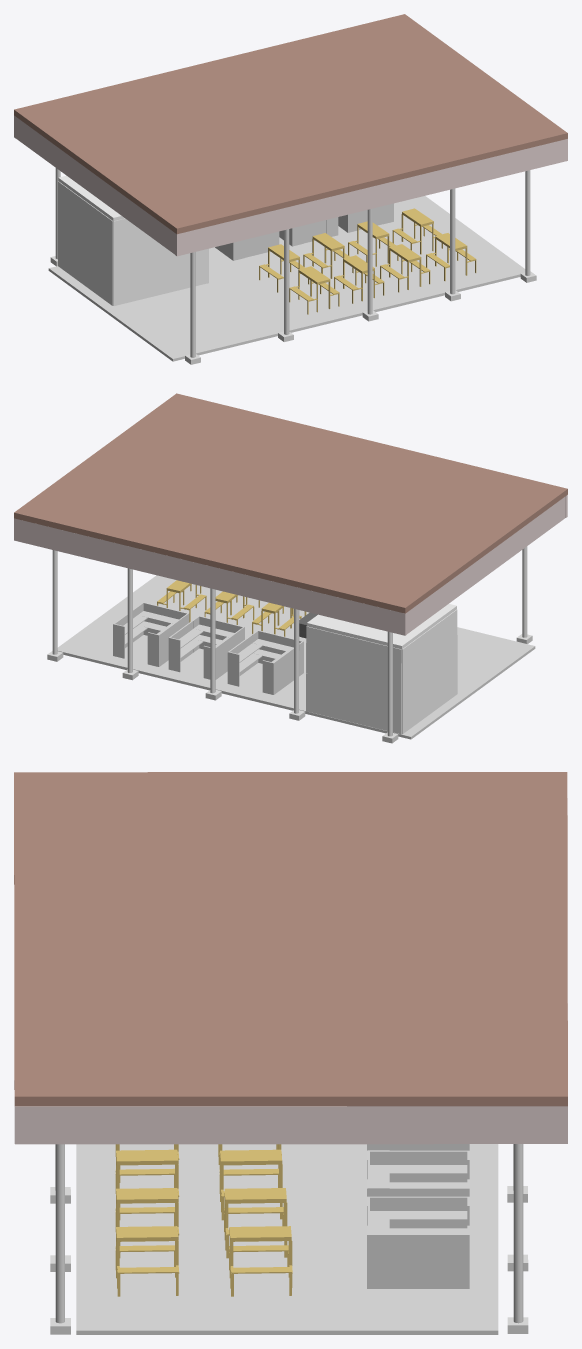
Rendered from Elementary Canteen S.fbx.
The picture shows the model from 3 angles, top to bottom: view 1: azimuth 30°, elevation 25°; view 2: azimuth 150°, elevation 25°; view 3: azimuth 270°, elevation 25°; orthographic projection. The views are drawn at different scales.
Parts seen in each view (by area): view 1: Cube.001, Cube, Cube.002, Cube.013, Cube.003; view 2: Cube.001, Cube.002, Cube, Cube.003, Cube.013; view 3: Cube.001, Cube, Cube.003, Cube.013.
Part boxes in pixels (x1=…): Cube.001: x1=14, y1=14, x2=567, y2=364; Cube: x1=48, y1=196, x2=525, y2=361; Cube.002: x1=58, y1=175, x2=208, y2=305; Cube.013: x1=259, y1=208, x2=476, y2=314; Cube.003: x1=215, y1=203, x2=393, y2=260; Cube.001: x1=14, y1=393, x2=567, y2=743; Cube.002: x1=306, y1=604, x2=457, y2=734; Cube: x1=57, y1=575, x2=535, y2=739; Cube.003: x1=113, y1=602, x2=303, y2=694; Cube.013: x1=157, y1=580, x2=306, y2=636; Cube.001: x1=14, y1=772, x2=567, y2=1334; Cube: x1=76, y1=1144, x2=498, y2=1334; Cube.003: x1=367, y1=1144, x2=469, y2=1288; Cube.013: x1=115, y1=1144, x2=292, y2=1296.
Size of the model in its own units: 896 by 328 by 646.
